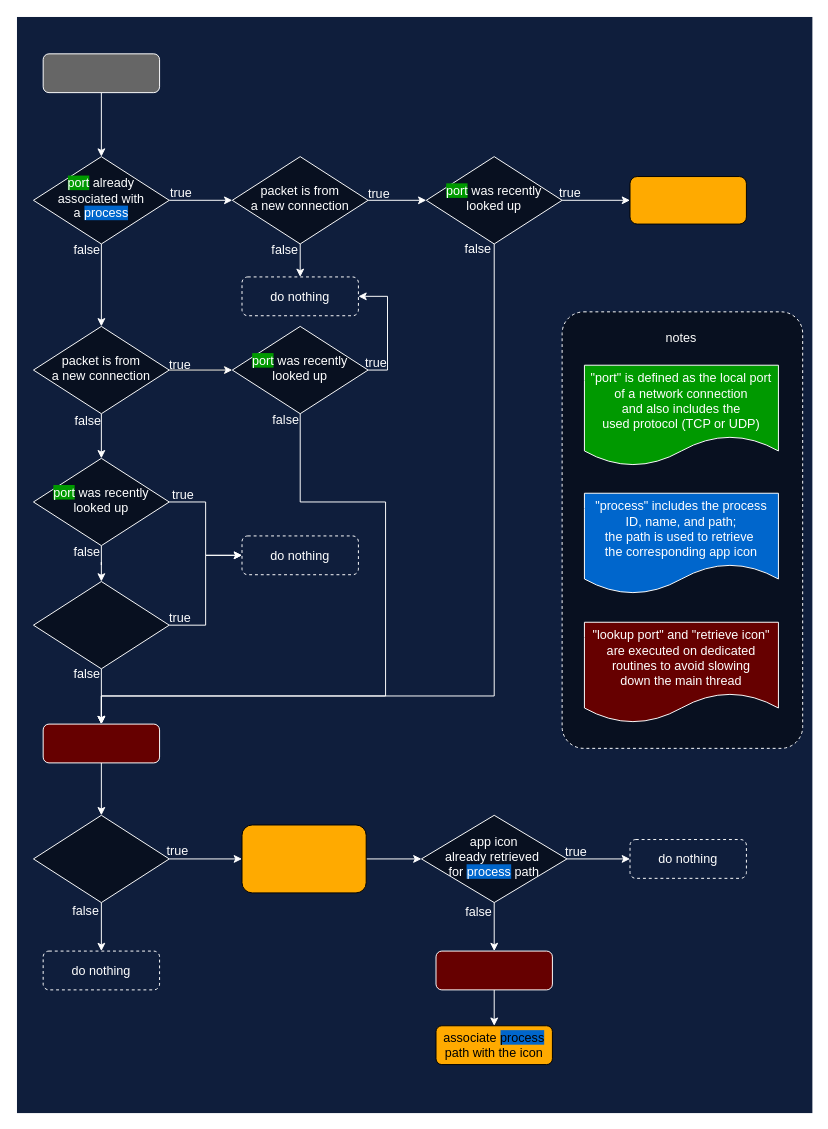
This 828x1129 diagram has some shape labels left out. The shapes that lost their labels are listed below. From the top down, each one's centre as x and y in pixels, then its label:
At (101,73): "network packet on port".
At (687,200): "associate new connection with process".
At (100,625): "lookup for port already tried more than once".
At (101,743): "lookup port using listeners".
At (100,858): "lookup finds a valid process".
At (303,858): "associate recent unassigned connections on port with the process".
At (493,970): "retrieve icon using picon".
